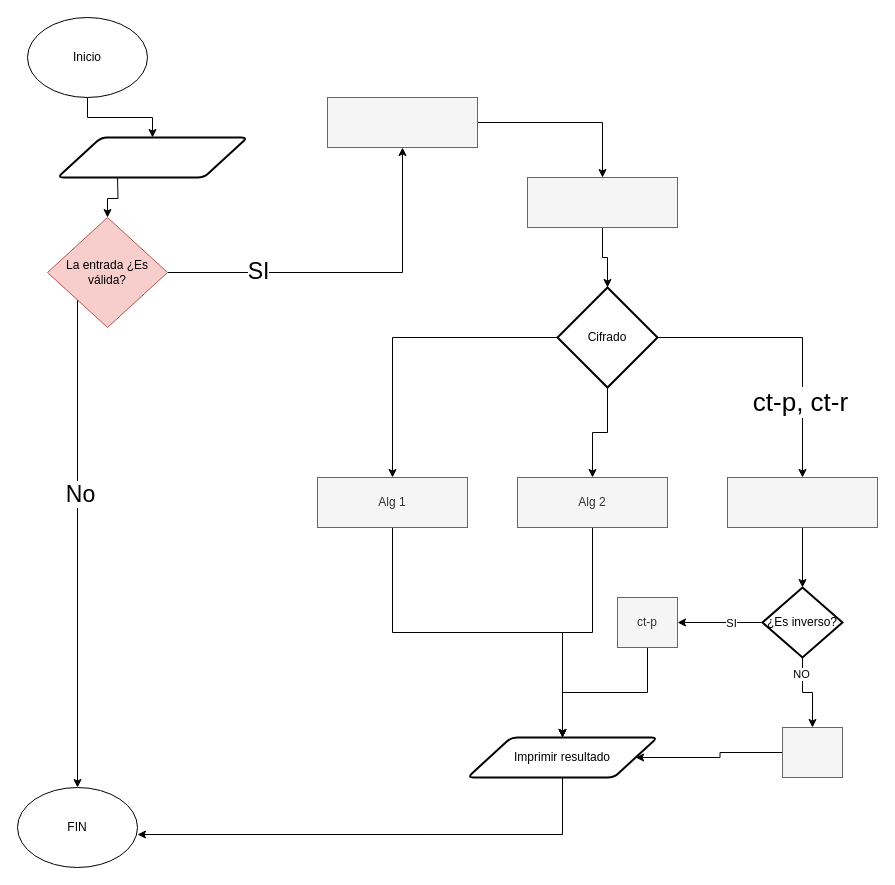
The diagram is 895 pixels wide and 885 high, and some of its shapes have lost their labels. The centre of each missing label's shape, as x and y in pixels:
Analiza el argumento (op, alg, input, ct-p, ct-r): the point at 602,202
Argumento desde consola: the point at 152,157
ct: the point at 802,502
ct-r inverso: the point at 812,752
llamar al método process: the point at 402,122
